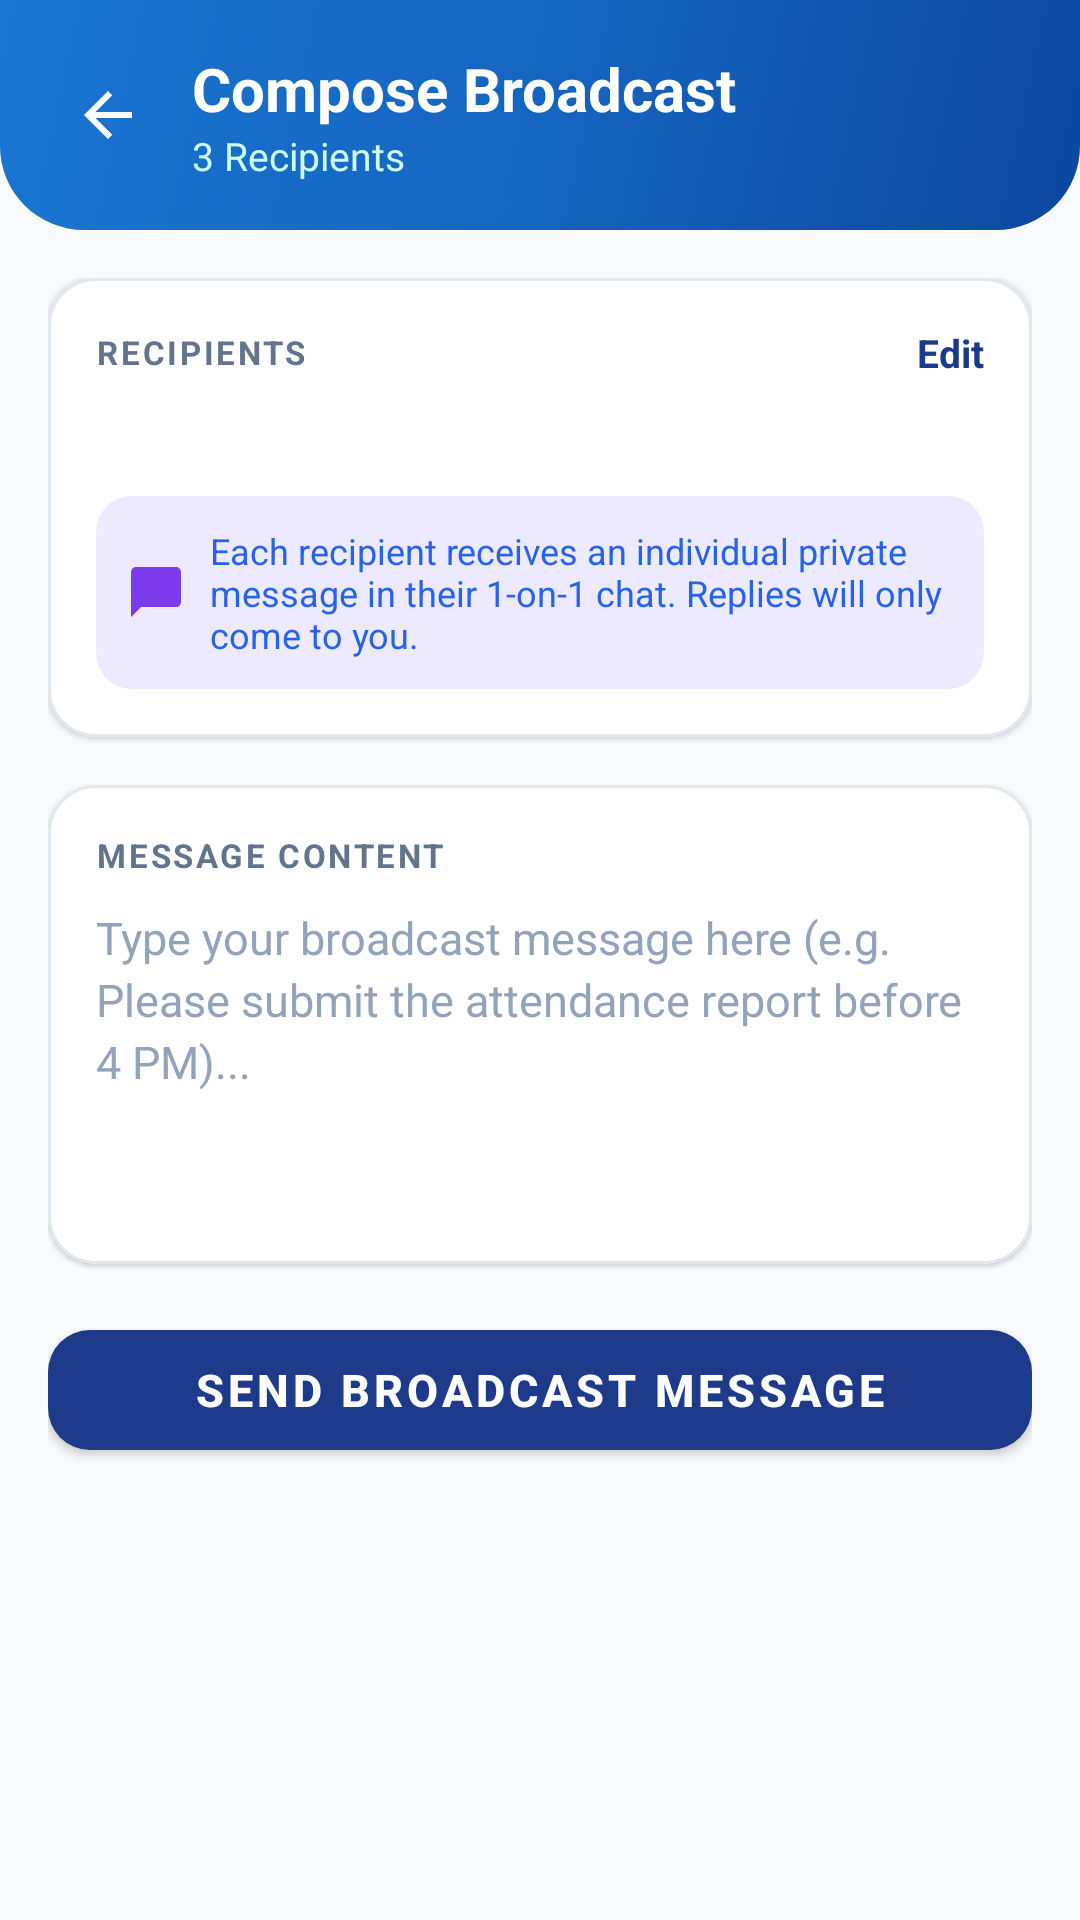

Icon click points for this 1080×1920 phone screenshot, format (x=x, y=y):
Back: (x=108, y=115)
